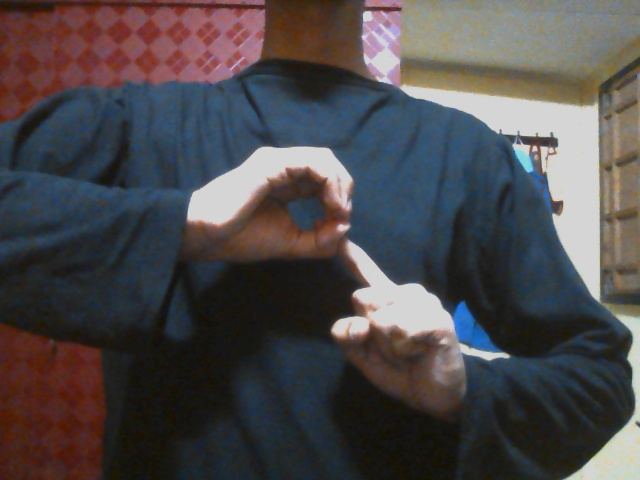Q: (199, 144, 461, 429)
